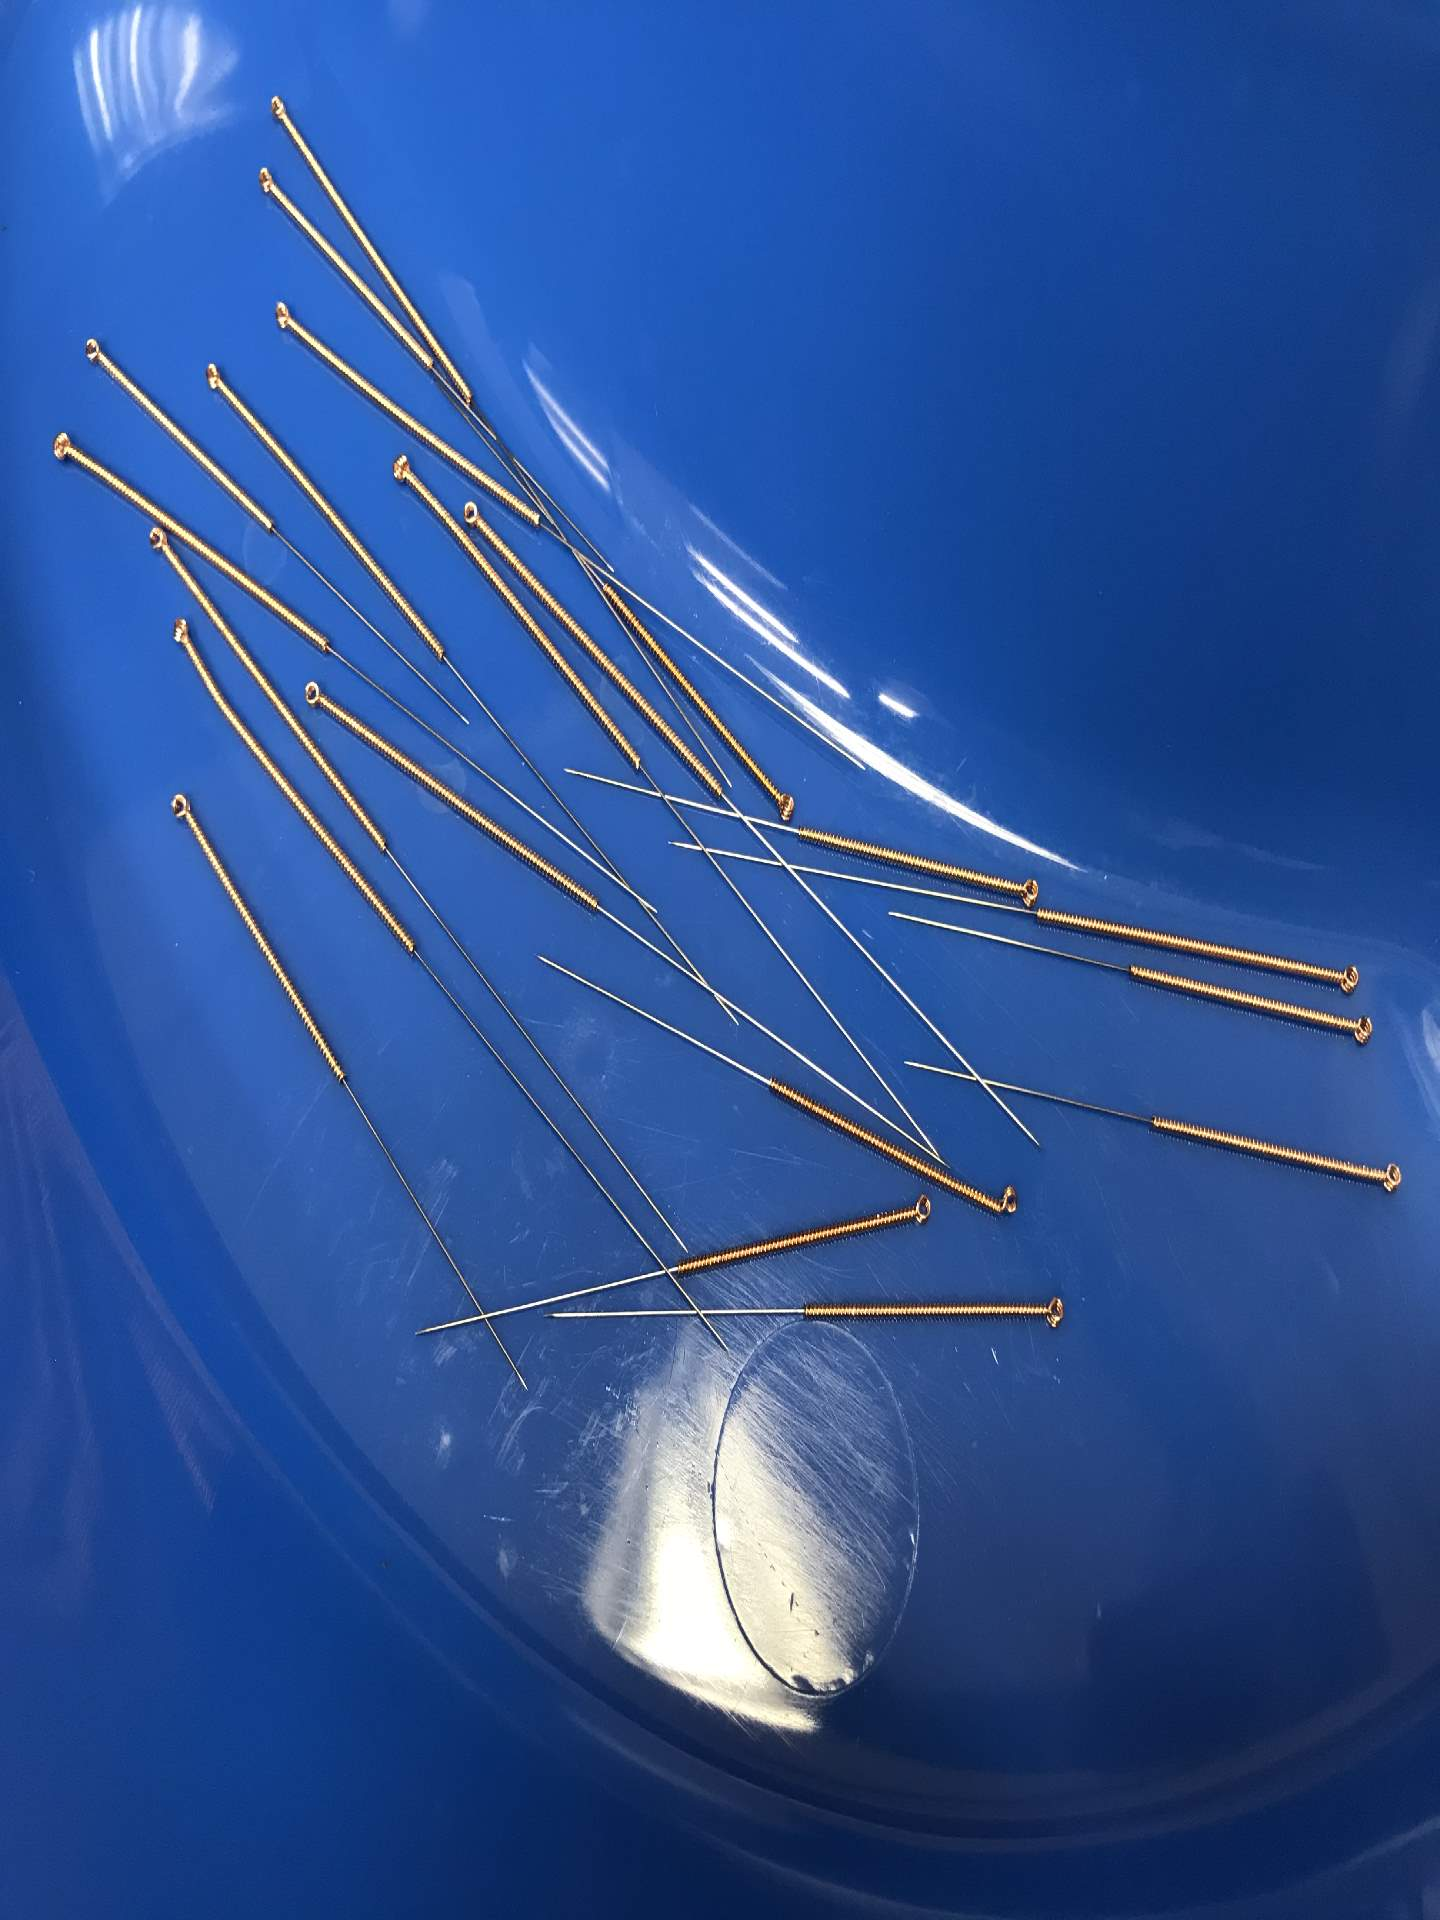needle: (1361, 1147, 1410, 1203), (1001, 866, 1045, 913), (160, 785, 201, 835), (384, 443, 424, 493), (165, 608, 201, 661), (1339, 1005, 1379, 1052), (762, 780, 802, 828), (900, 1187, 941, 1232), (1327, 954, 1367, 999), (1032, 1290, 1072, 1333), (989, 1179, 1026, 1228), (44, 426, 85, 469), (295, 673, 334, 715), (76, 330, 113, 373), (197, 354, 231, 399), (250, 159, 284, 201), (266, 295, 301, 336), (455, 491, 489, 532), (141, 522, 174, 561), (262, 89, 293, 129)
